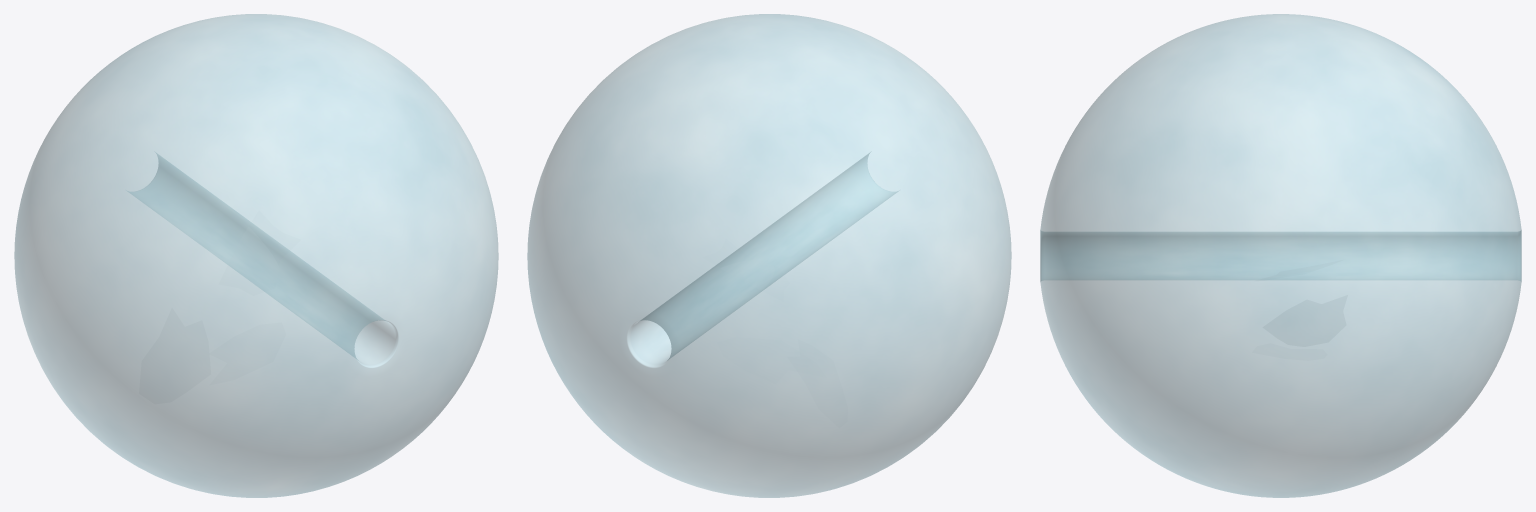
Rendered from aquamarine-10mm.glb.
The picture shows the model from 3 angles, left to right: view 1: azimuth 30°, elevation 25°; view 2: azimuth 150°, elevation 25°; view 3: azimuth 270°, elevation 25°; orthographic projection.
Visible parts, largest first — view 1: aquamarine.001; view 2: aquamarine.001; view 3: aquamarine.001.
Part boxes in pixels (left/top/right/bottom): aquamarine.001: left=14, top=14, right=498, bottom=497; aquamarine.001: left=527, top=14, right=1011, bottom=497; aquamarine.001: left=1040, top=14, right=1521, bottom=497.
Size of the model in its own units: 0.01 by 0.01 by 0.00994.
2 materials, 1 textured.
